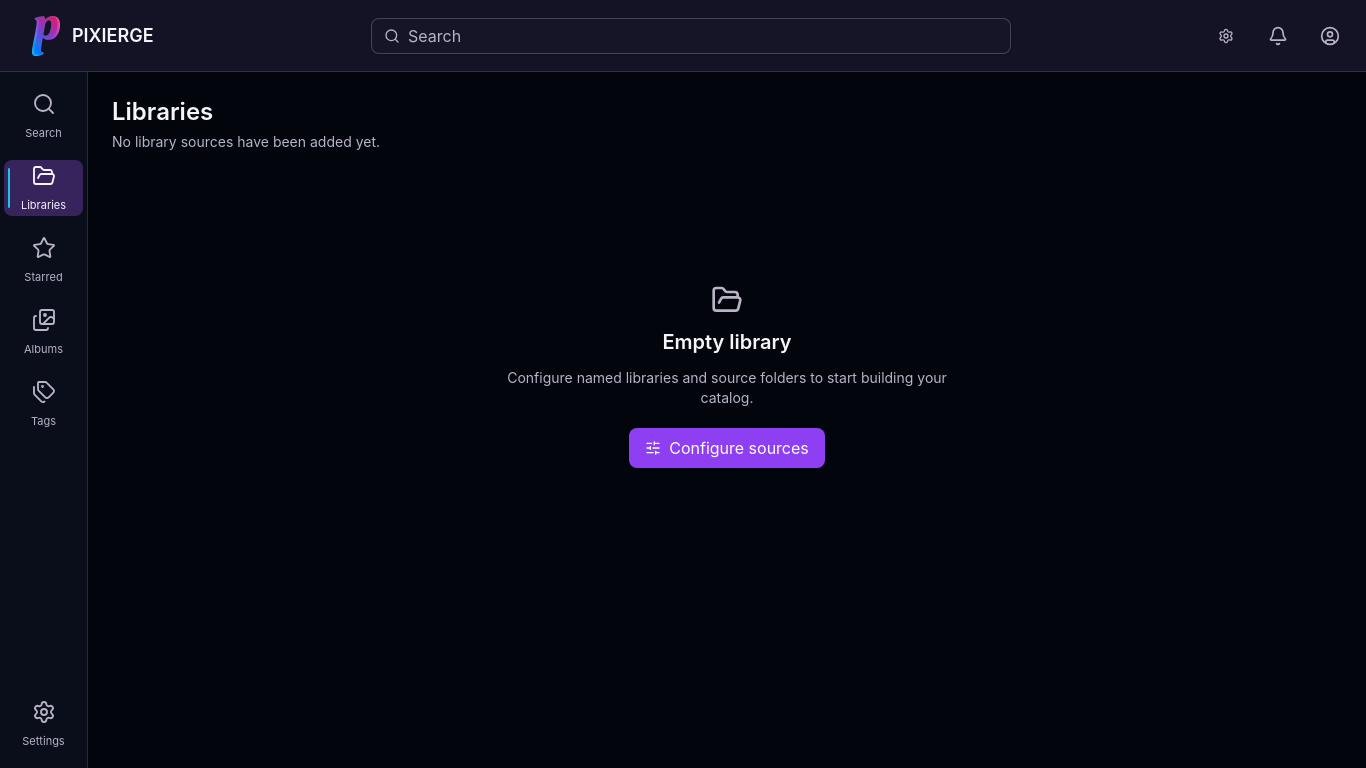
it: App › routes the empty library CTA to source configuration
Click the button "Configure sources" at (727, 448), box [629,428,825,468]
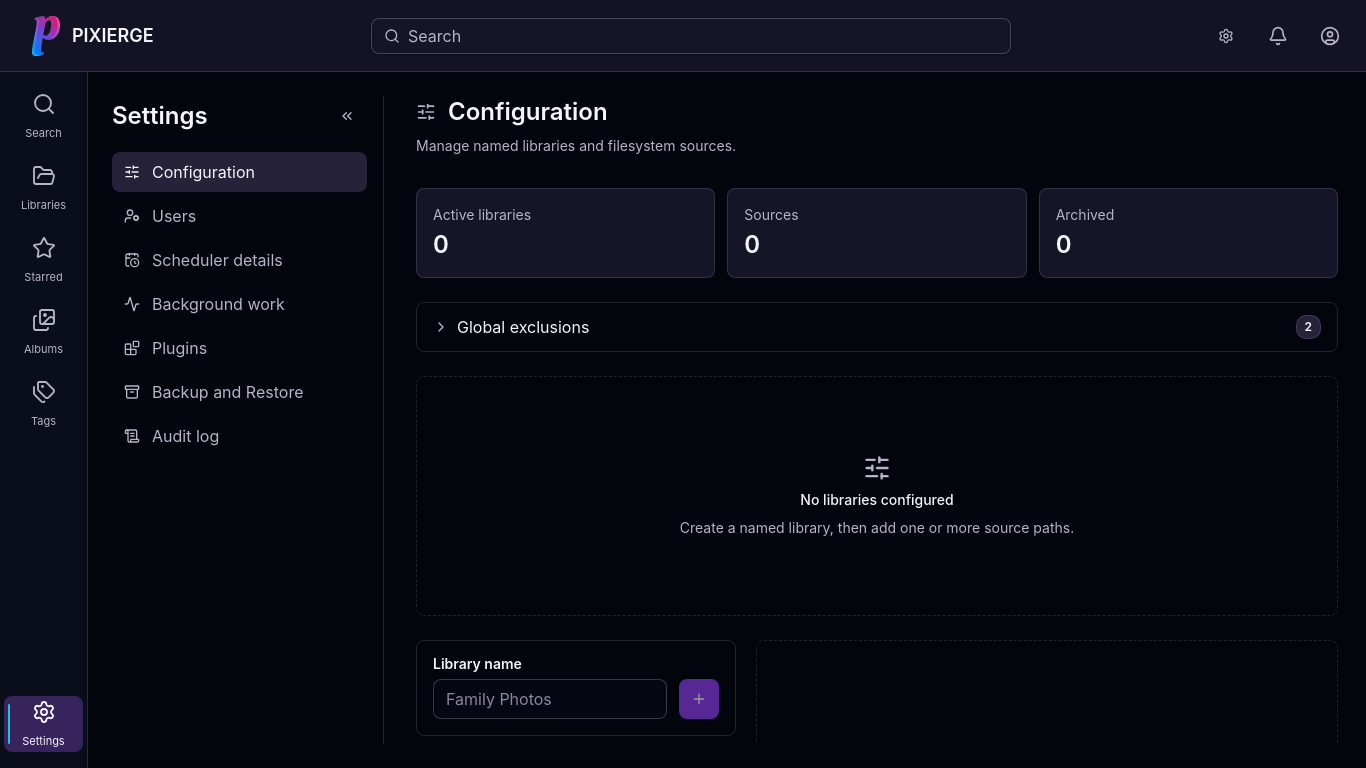
Check: the heading "Settings" is shown, box [112,100,208,132]
Check: the heading "Configuration" is shown, box [448,96,608,128]
Check: the field labelled "Library name" is shown, box [433,679,667,719]
